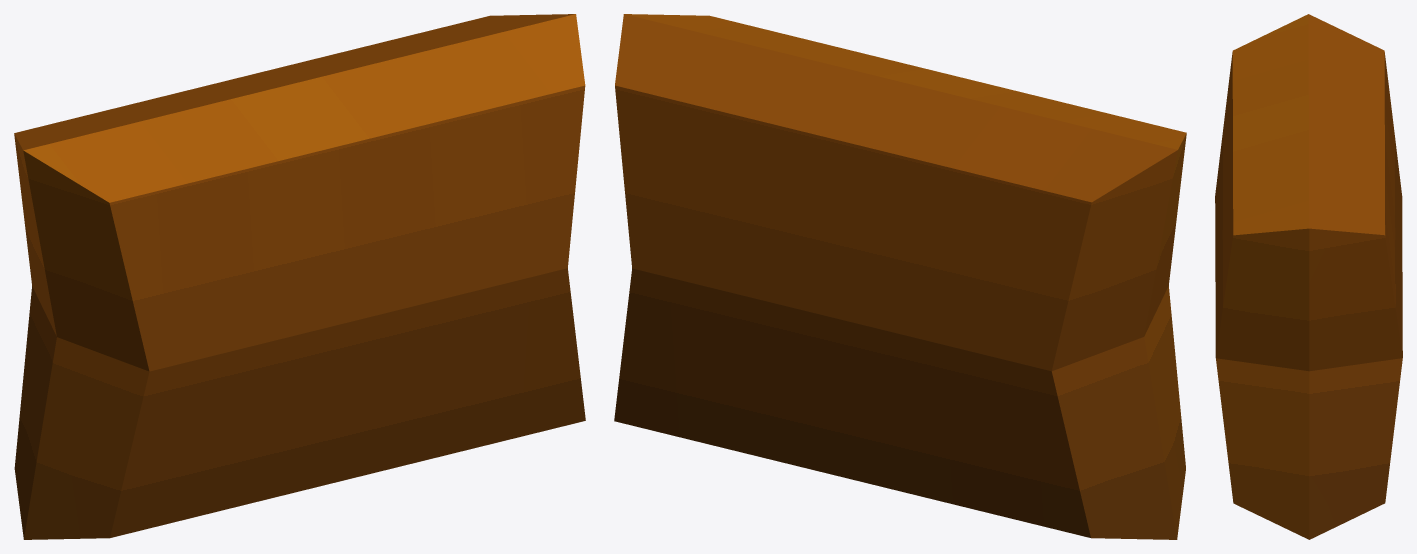
Rendered from Pillow1.fbx.
3 views of the same model, side by side, from view 1: azimuth 30°, elevation 25°; view 2: azimuth 150°, elevation 25°; view 3: azimuth 270°, elevation 25° (orthographic). The views are drawn at different scales.
Parts seen in each view (by area): view 1: Pillow_v1; view 2: Pillow_v1; view 3: Pillow_v1.
Boxes of the visible parts, x1,y1,x2,y2 form: Pillow_v1: [14, 14, 585, 539]; Pillow_v1: [614, 14, 1186, 539]; Pillow_v1: [1215, 14, 1402, 539].
Size of the model in its own units: 58.18 by 39.24 by 21.4.
